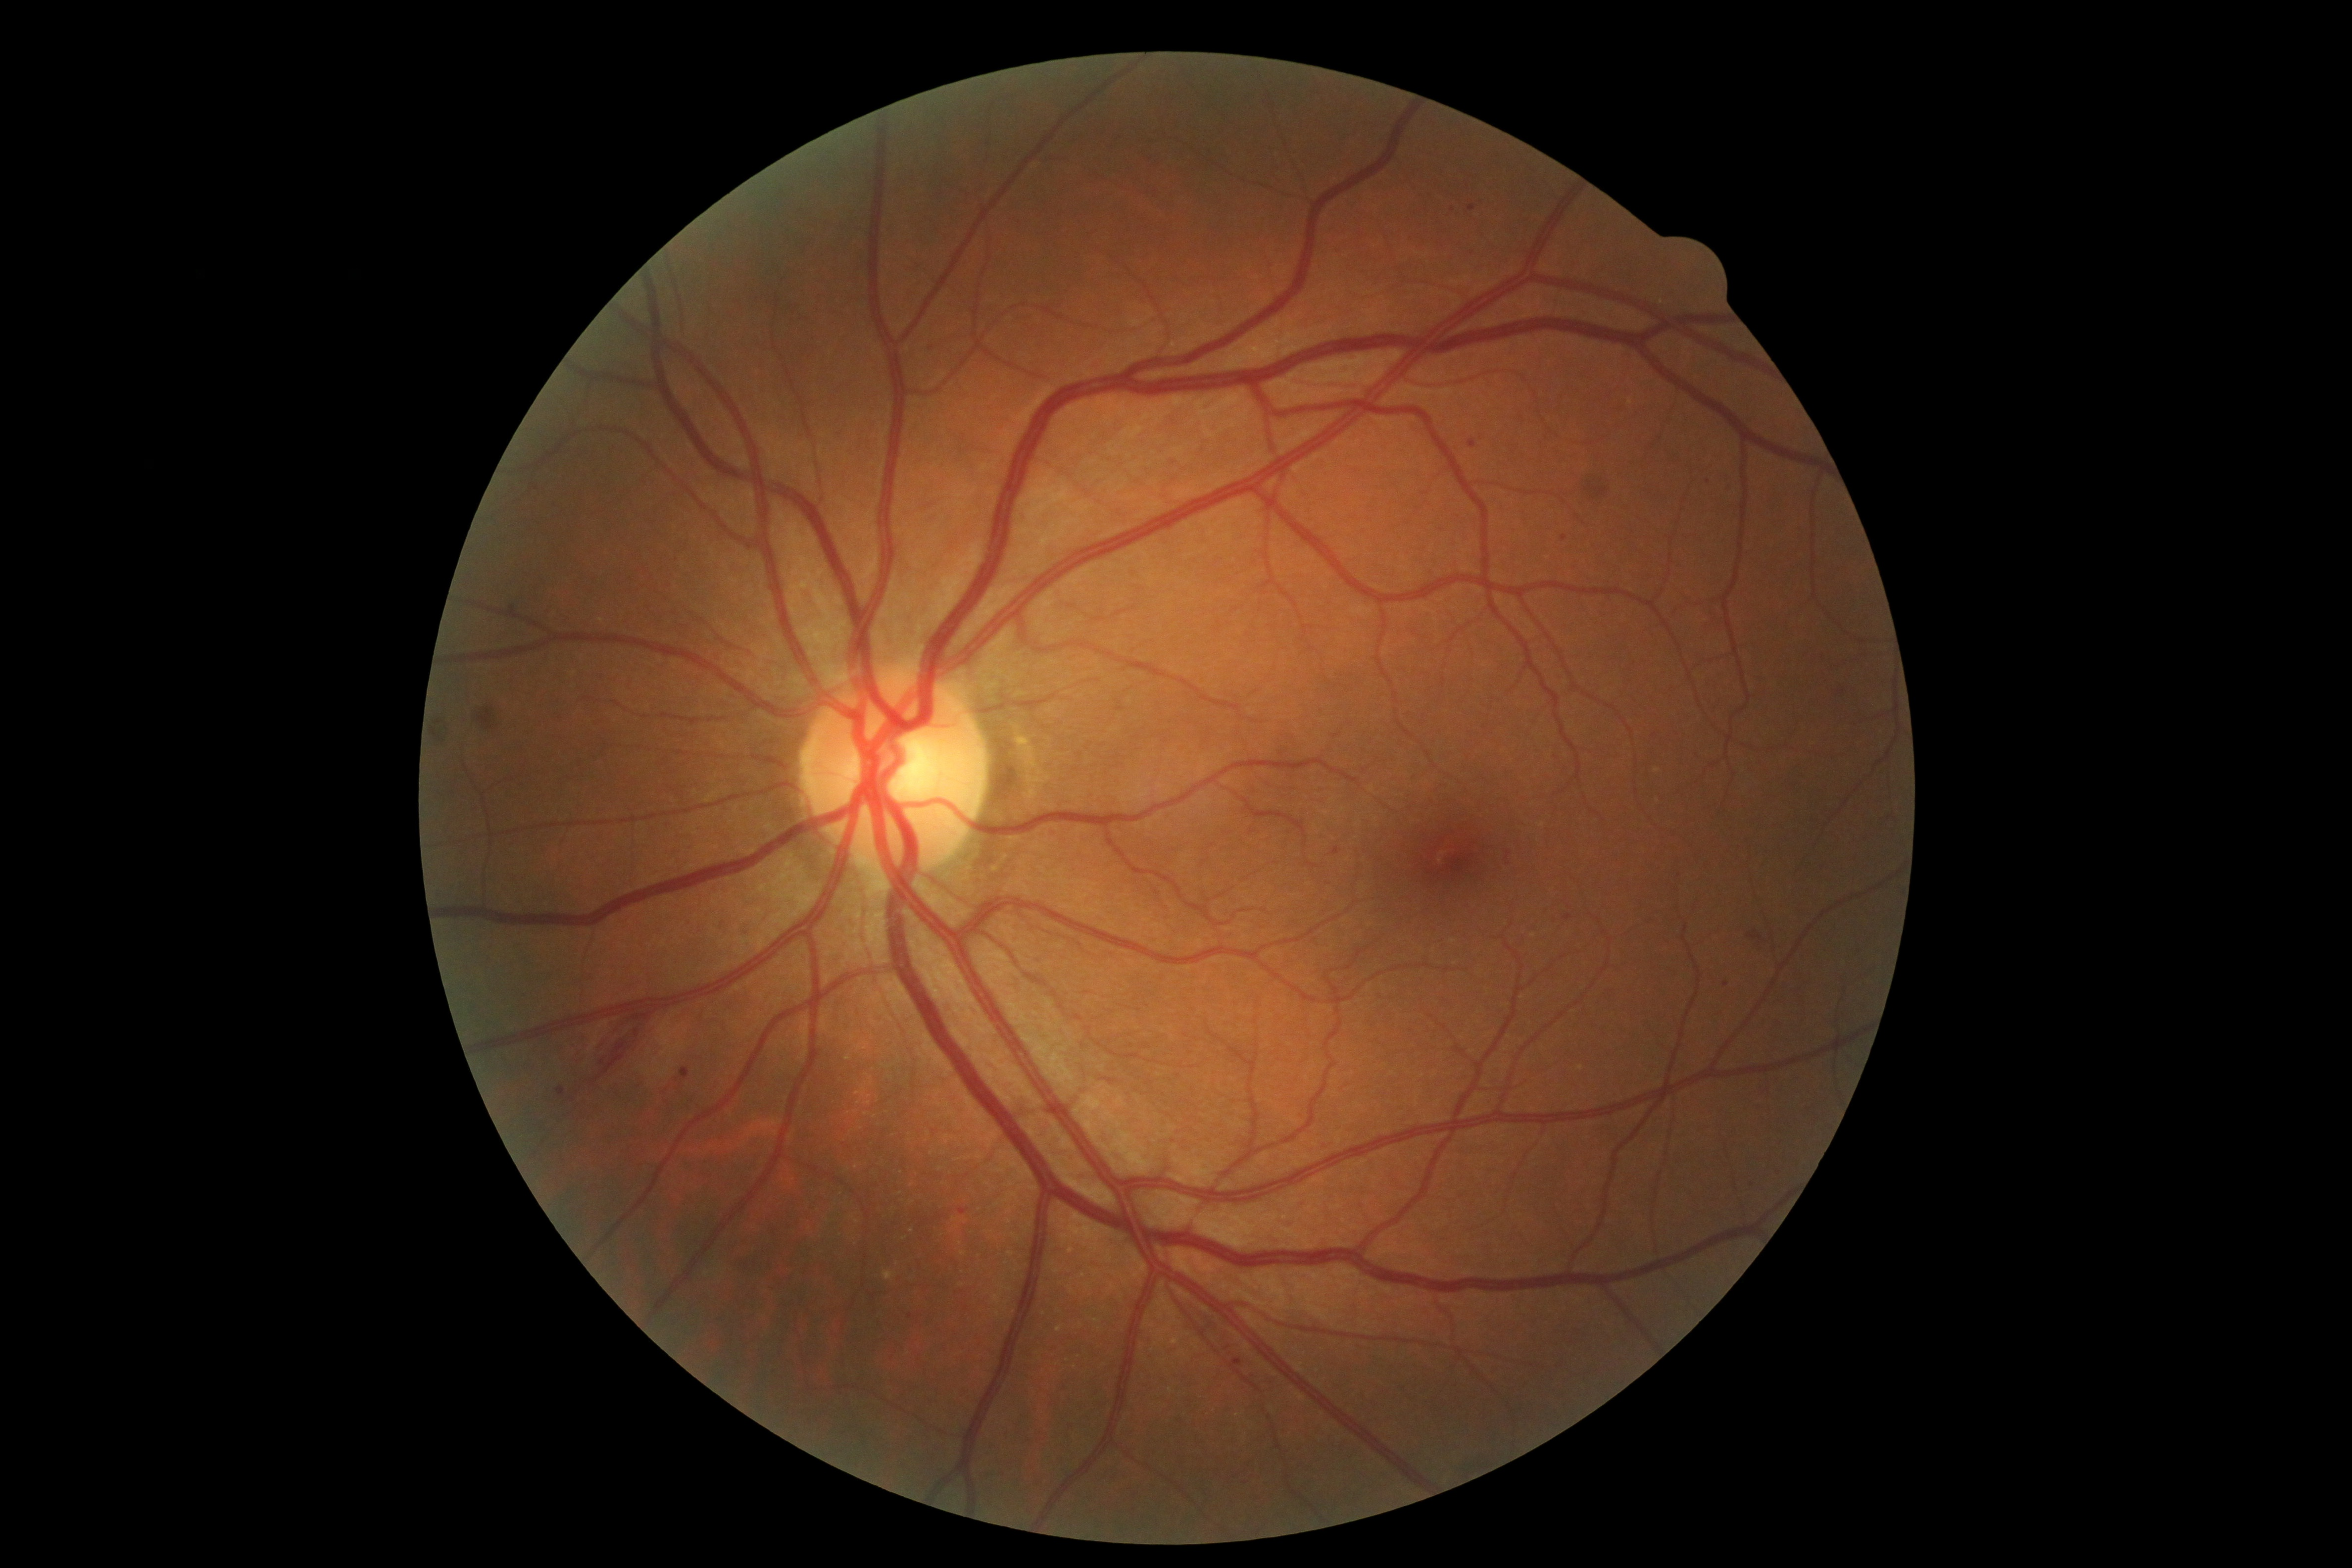Fovea: (1374, 786, 1526, 931)
OD: (777, 656, 1008, 903)
